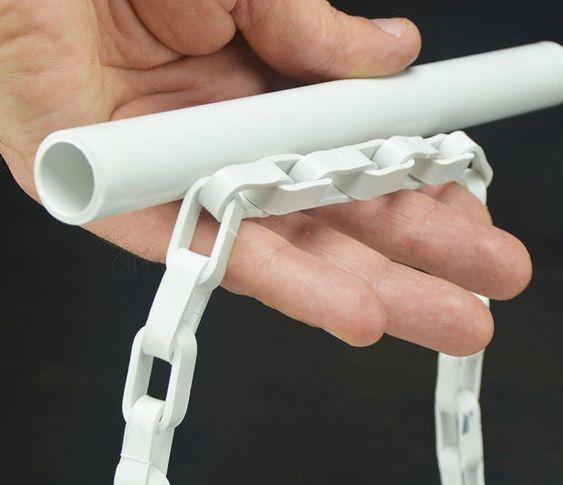PVC: (31, 39, 563, 230)
